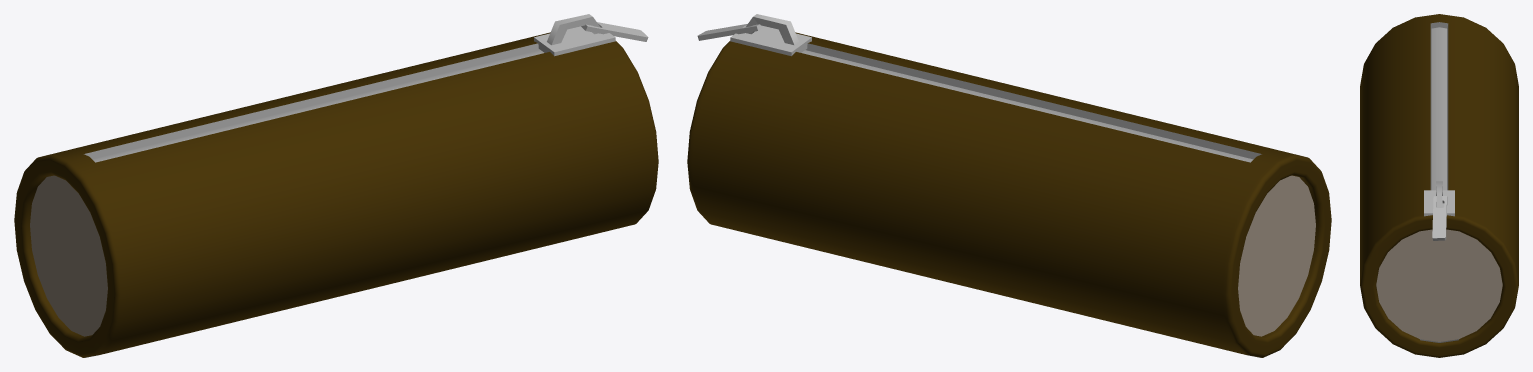
File: Trousse_Geo.fbx
3 views of the same model, side by side, from view 1: azimuth 30°, elevation 25°; view 2: azimuth 150°, elevation 25°; view 3: azimuth 270°, elevation 25° (orthographic). The views are drawn at different scales.
Visible parts, largest first — view 1: Base_trousse, Zip1, Zip2; view 2: Base_trousse, Zip1, Zip2; view 3: Base_trousse, Zip1, Zip2.
Part boxes in pixels (x1,y1,x2,y2): Base_trousse: [14, 32, 658, 357]; Zip1: [534, 14, 615, 56]; Zip2: [581, 22, 648, 41]; Base_trousse: [687, 32, 1331, 357]; Zip1: [730, 14, 811, 56]; Zip2: [697, 24, 765, 40]; Base_trousse: [1360, 14, 1518, 357]; Zip1: [1424, 181, 1454, 216]; Zip2: [1432, 196, 1447, 240].
Bounding box in the file's own units: 6.43 × 2.21 × 2.
